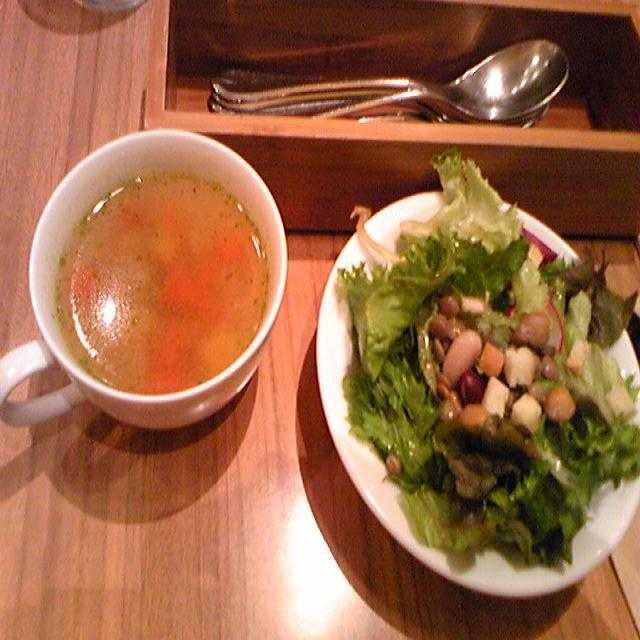蔬菜料理: (336, 187, 638, 576)
